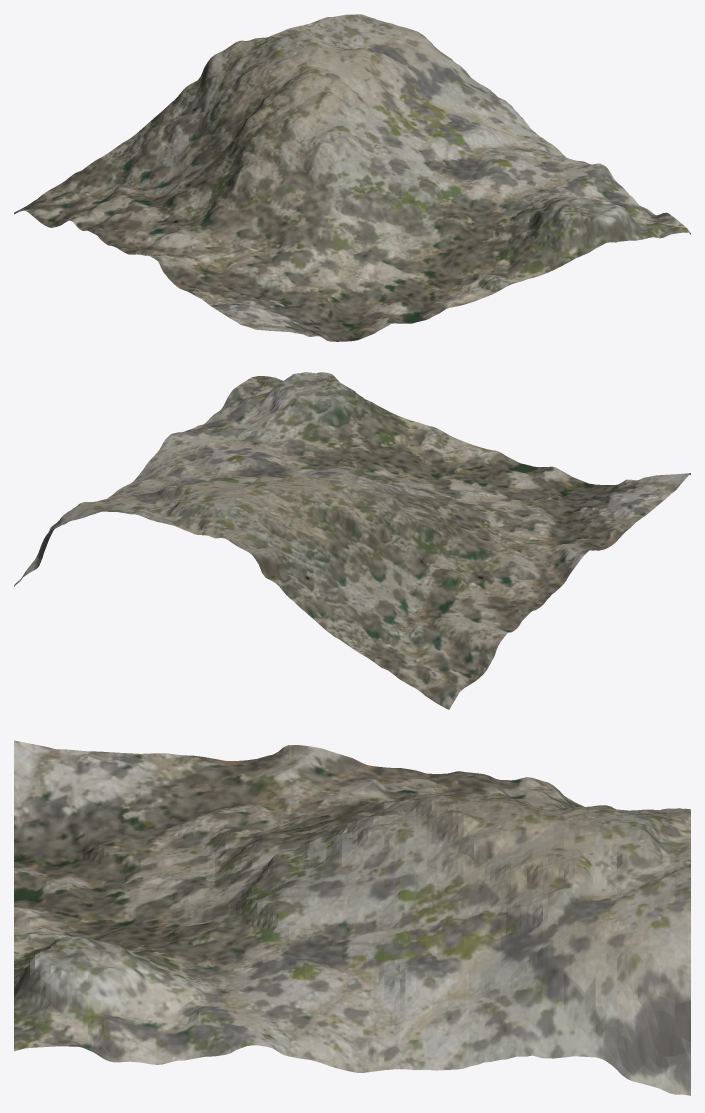
The picture shows the model from 3 angles, top to bottom: view 1: azimuth 30°, elevation 25°; view 2: azimuth 150°, elevation 25°; view 3: azimuth 270°, elevation 25°; orthographic projection. The views are drawn at different scales.
Bounding box in the file's own units: 250 × 70.9 × 241.
1 material, 1 textured.
